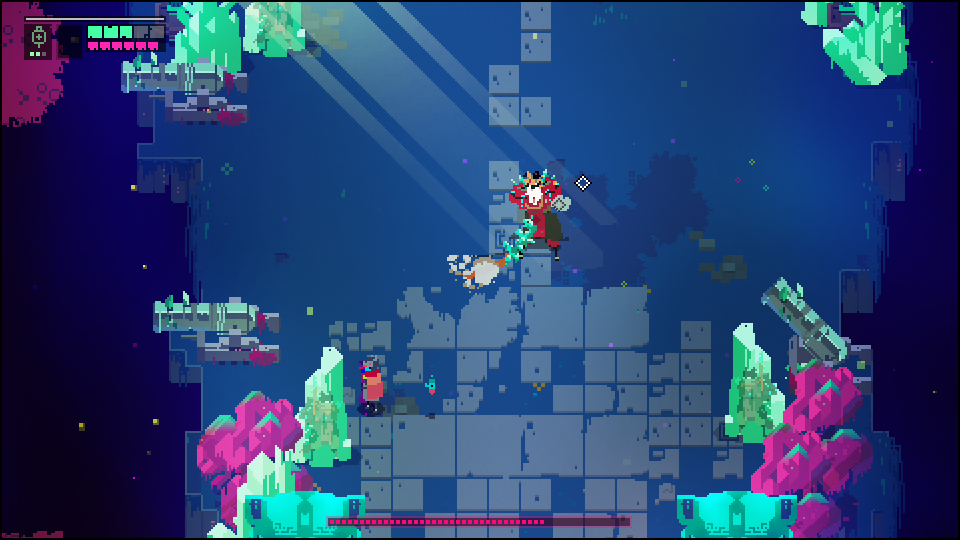hanged_man: (485, 166, 569, 272)
player: (356, 350, 385, 412)
